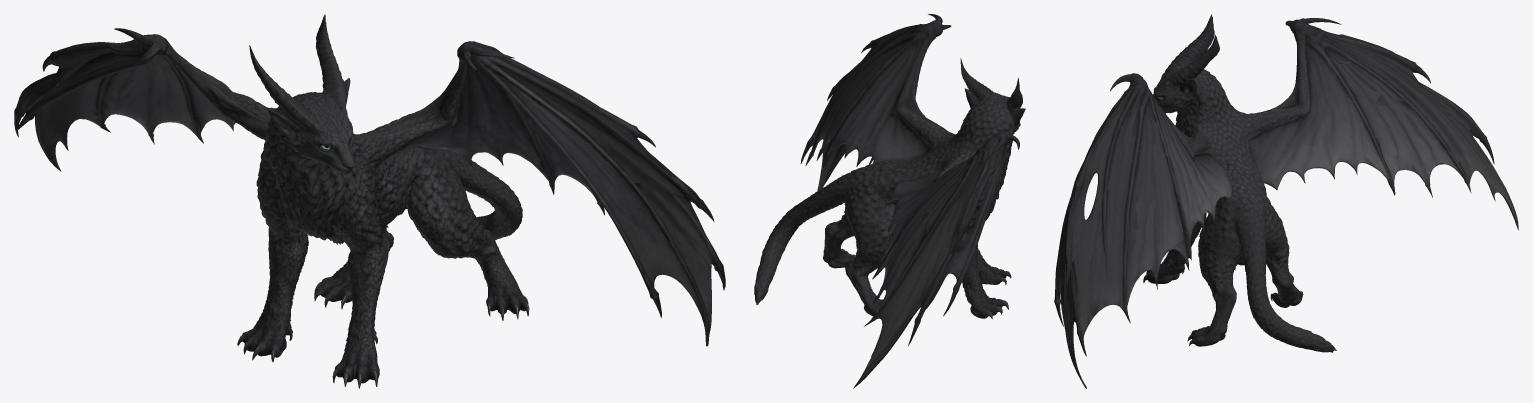
Rendered from tharos-source.glb.
3 views of the same model, side by side, from view 1: azimuth 30°, elevation 25°; view 2: azimuth 150°, elevation 25°; view 3: azimuth 270°, elevation 25° (orthographic). The views are drawn at different scales.
Visible parts, largest first — view 1: Mesh_0; view 2: Mesh_0; view 3: Mesh_0.
Part boxes in pixels (box(x1,y1,x2,y2)): Mesh_0: box(14, 14, 725, 388); Mesh_0: box(754, 14, 1025, 388); Mesh_0: box(1054, 14, 1518, 388).
Size of the model in its own units: 1.59 by 1.13 by 1.9.
1 material, 1 textured.
